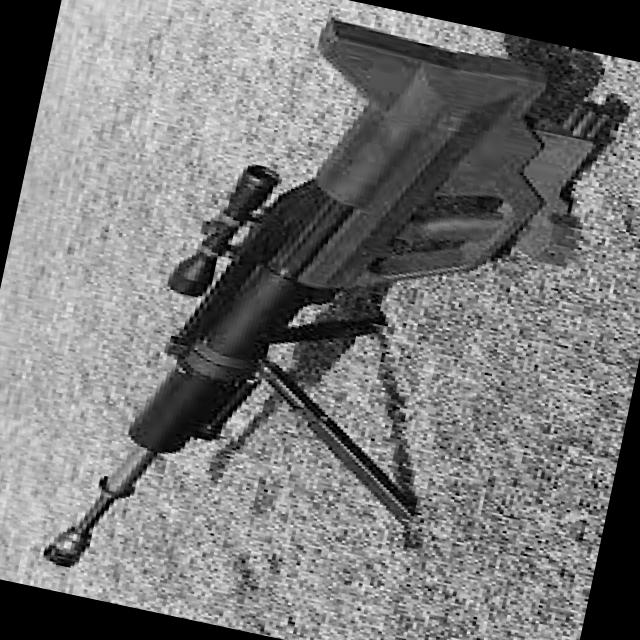long weapon: (34, 0, 628, 639)
